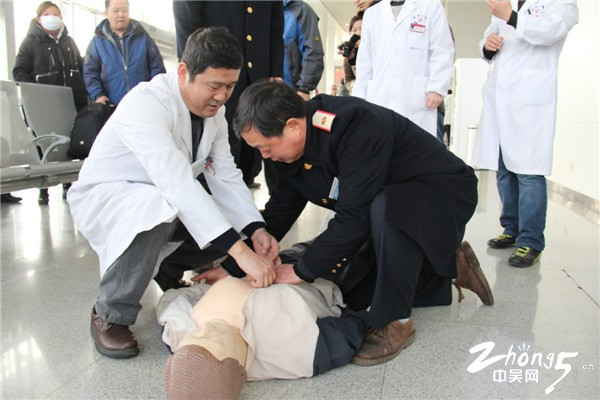fall: (149, 215, 390, 400)
